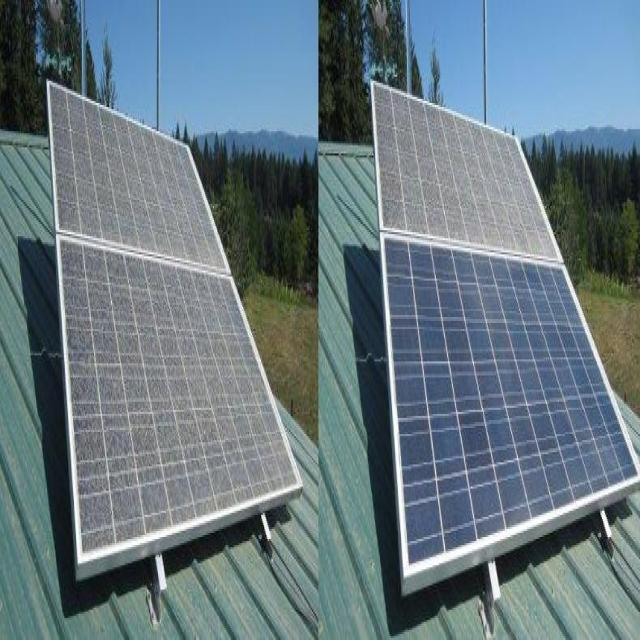dust-solar-panel: (49, 85, 300, 566), (371, 77, 563, 266)
